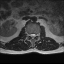CCS_normal: (32, 32, 34, 40)
LFS_normal: (35, 32, 37, 37)
LLS_normal: (34, 32, 35, 39)
RFS_normal: (28, 32, 30, 37)
RLS_normal: (30, 32, 32, 38)
